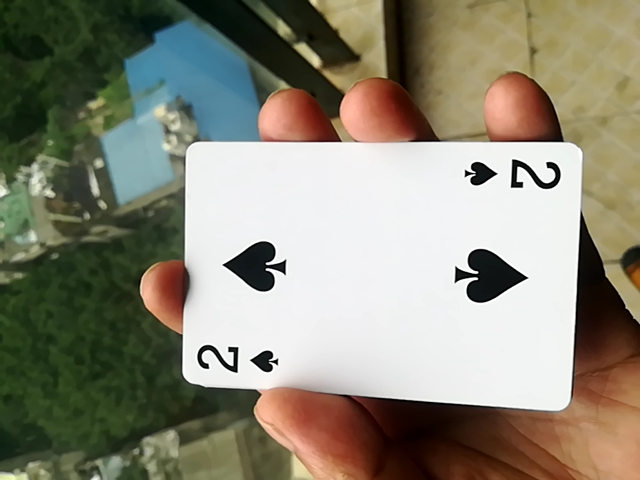ht 2: (172, 134, 574, 420)
